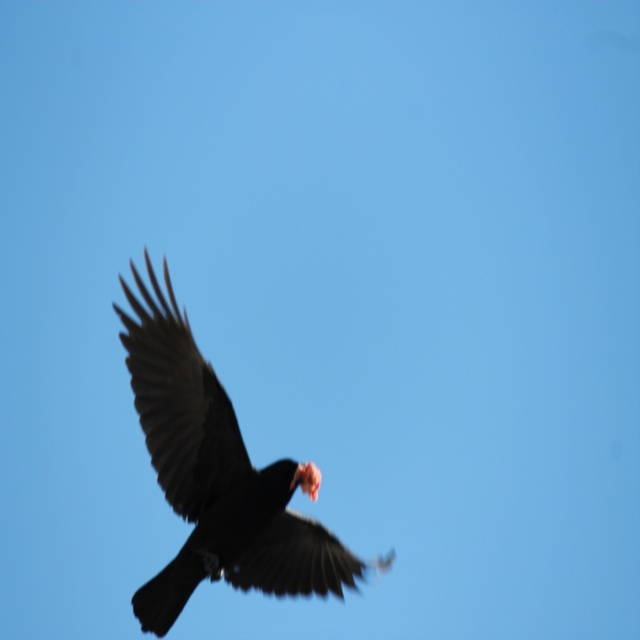Eagle: (107, 243, 398, 639)
